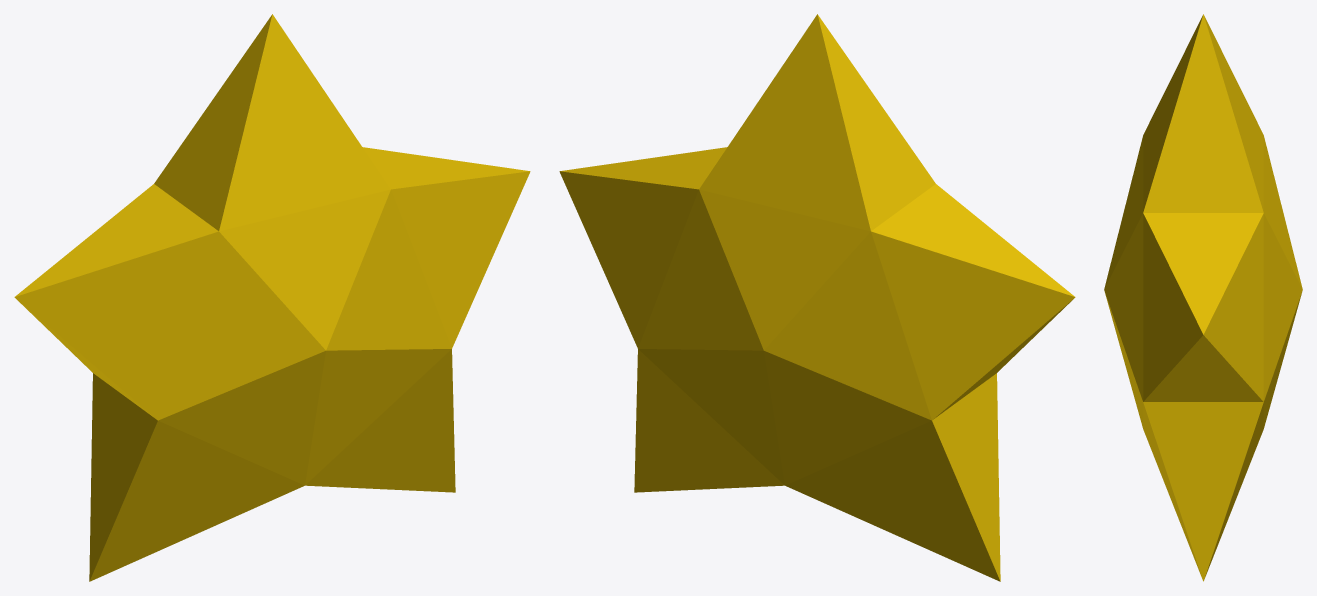
Rendered from Mesh_Star.fbx.
3 views of the same model, side by side, from view 1: azimuth 30°, elevation 25°; view 2: azimuth 150°, elevation 25°; view 3: azimuth 270°, elevation 25° (orthographic). The views are drawn at different scales.
Visible parts, largest first — view 1: Star_Mesh; view 2: Star_Mesh; view 3: Star_Mesh.
Part boxes in pixels (x1=…): Star_Mesh: x1=14, y1=14, x2=530, y2=581; Star_Mesh: x1=559, y1=14, x2=1075, y2=581; Star_Mesh: x1=1104, y1=14, x2=1302, y2=581.
Bounding box in the file's own units: 85.16 × 82.47 × 30.62.
